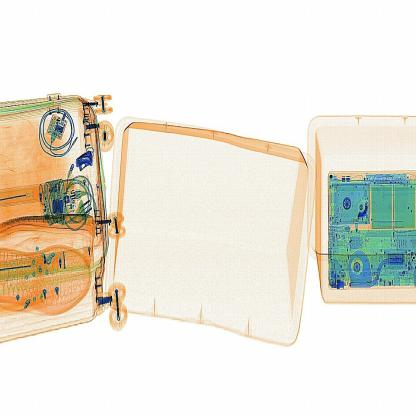knife: (74, 148, 100, 175)
